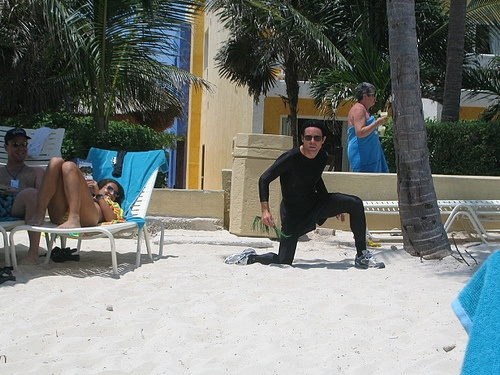head: (3, 129, 31, 166), (299, 122, 328, 156), (354, 80, 379, 113), (95, 178, 125, 205)
person: (250, 120, 375, 268), (16, 144, 128, 230), (345, 81, 388, 171), (1, 127, 41, 221)
